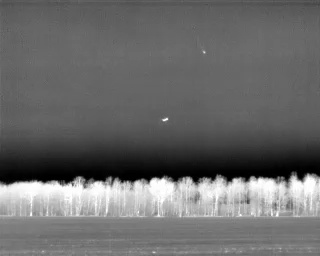DRONE: (159, 113, 172, 126)
